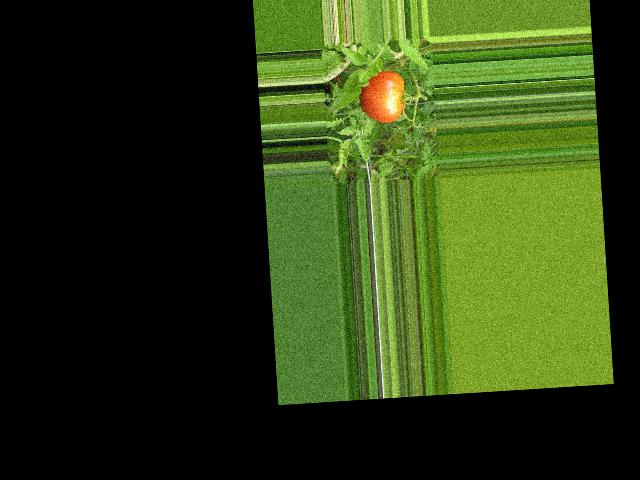tomato: (358, 70, 407, 124)
